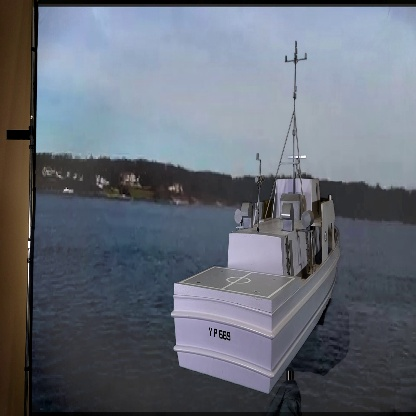YP689: (172, 56, 347, 397)
